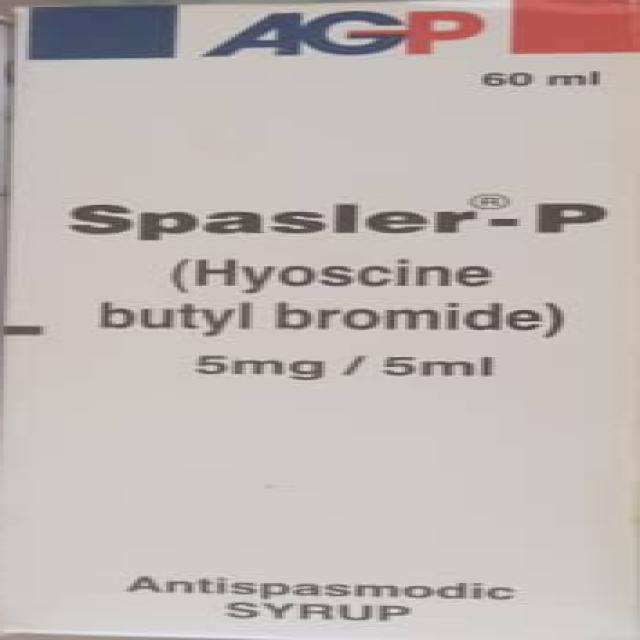drug-name: (66, 190, 608, 243)
